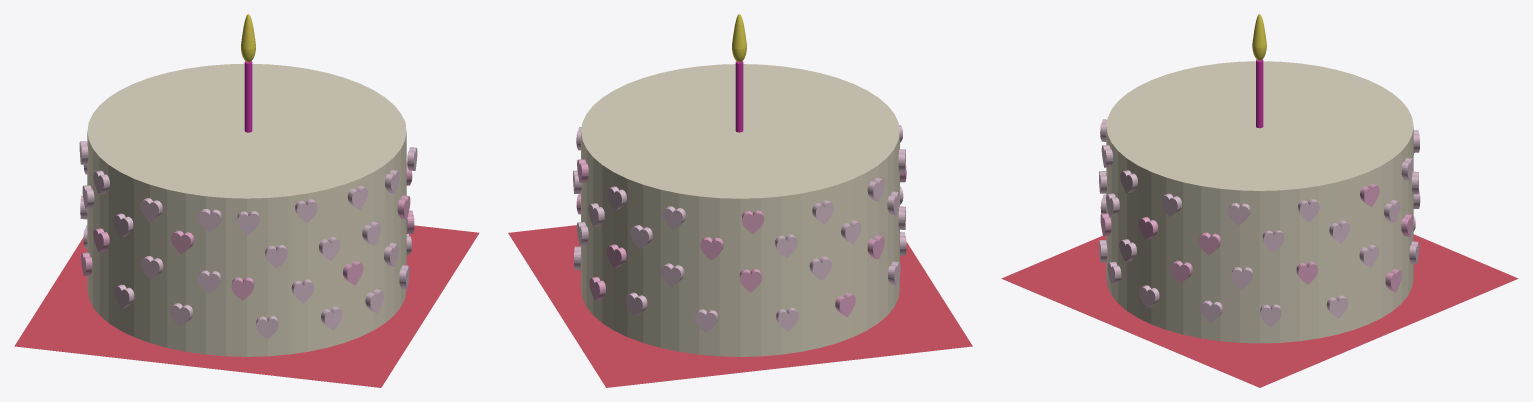
Rendered from vanilla.glb.
The picture shows the model from 3 angles, left to right: view 1: azimuth 30°, elevation 25°; view 2: azimuth 150°, elevation 25°; view 3: azimuth 270°, elevation 25°; orthographic projection. The views are drawn at different scales.
Parts seen in each view (by area): view 1: Mesh_Mesh_head_geo.001_lambert2SG.001; view 2: Mesh_Mesh_head_geo.001_lambert2SG.001; view 3: Mesh_Mesh_head_geo.001_lambert2SG.001.
Boxes of the visible parts, x1,y1,x2,y2 form: Mesh_Mesh_head_geo.001_lambert2SG.001: [14, 14, 479, 387]; Mesh_Mesh_head_geo.001_lambert2SG.001: [508, 14, 972, 387]; Mesh_Mesh_head_geo.001_lambert2SG.001: [1001, 14, 1518, 387].
Bounding box in the file's own units: 0.0354 × 0.02 × 0.0354.
